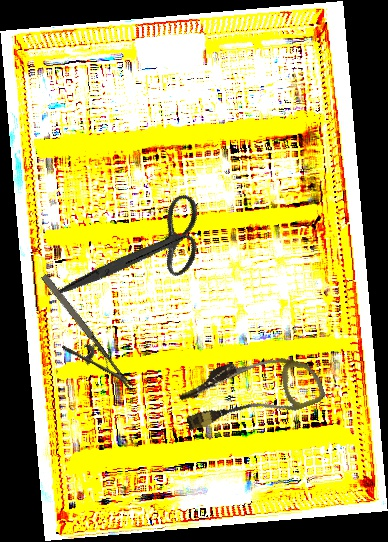Cannula: (173, 336, 328, 447)
Iris Scissors: (55, 163, 222, 345)
Needle Holder: (21, 271, 134, 407)
